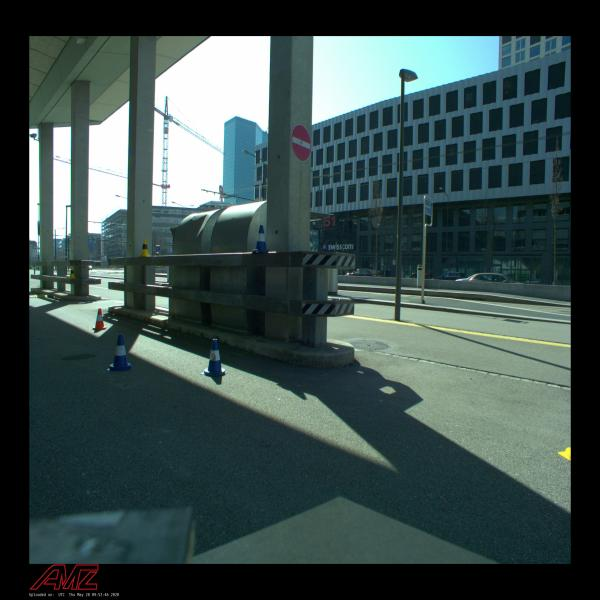blue_cone: (200, 339, 228, 377), (107, 334, 133, 371), (252, 225, 269, 252)
orange_cone: (92, 308, 108, 330)
yellow_cone: (140, 239, 150, 256), (69, 267, 76, 279)
